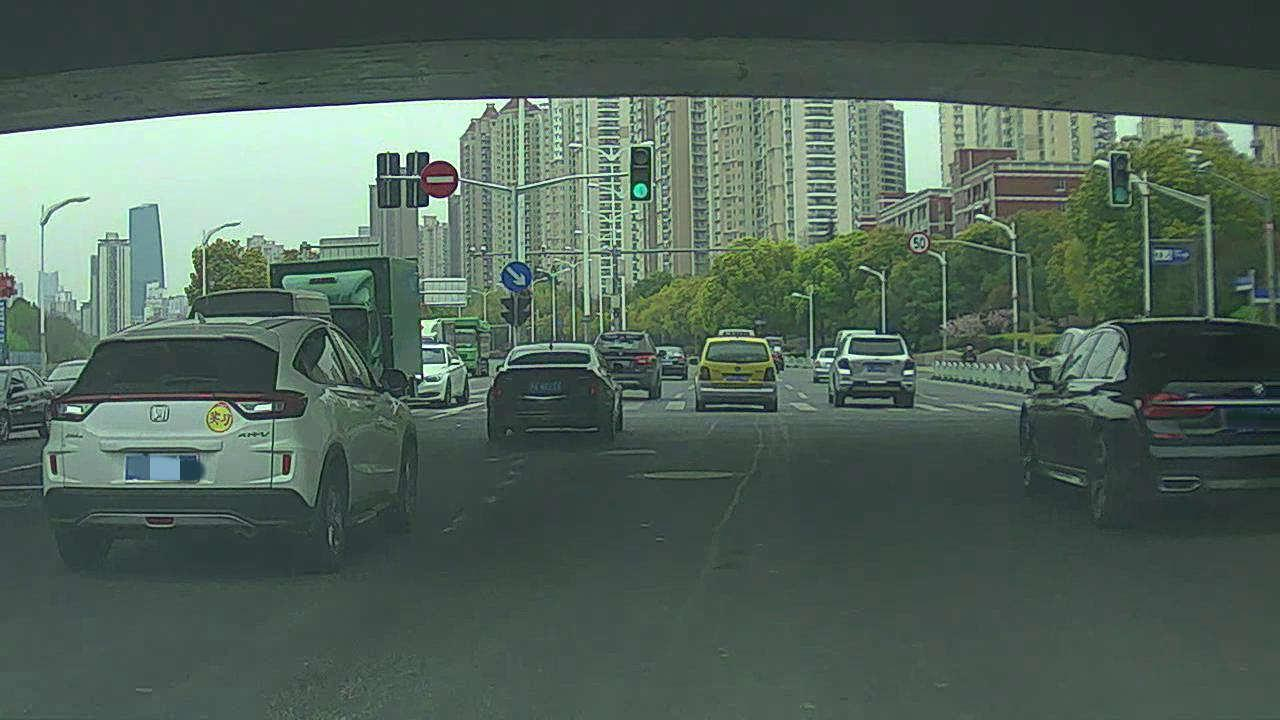traffic_light: (630, 144, 655, 201), (1112, 153, 1133, 206)
